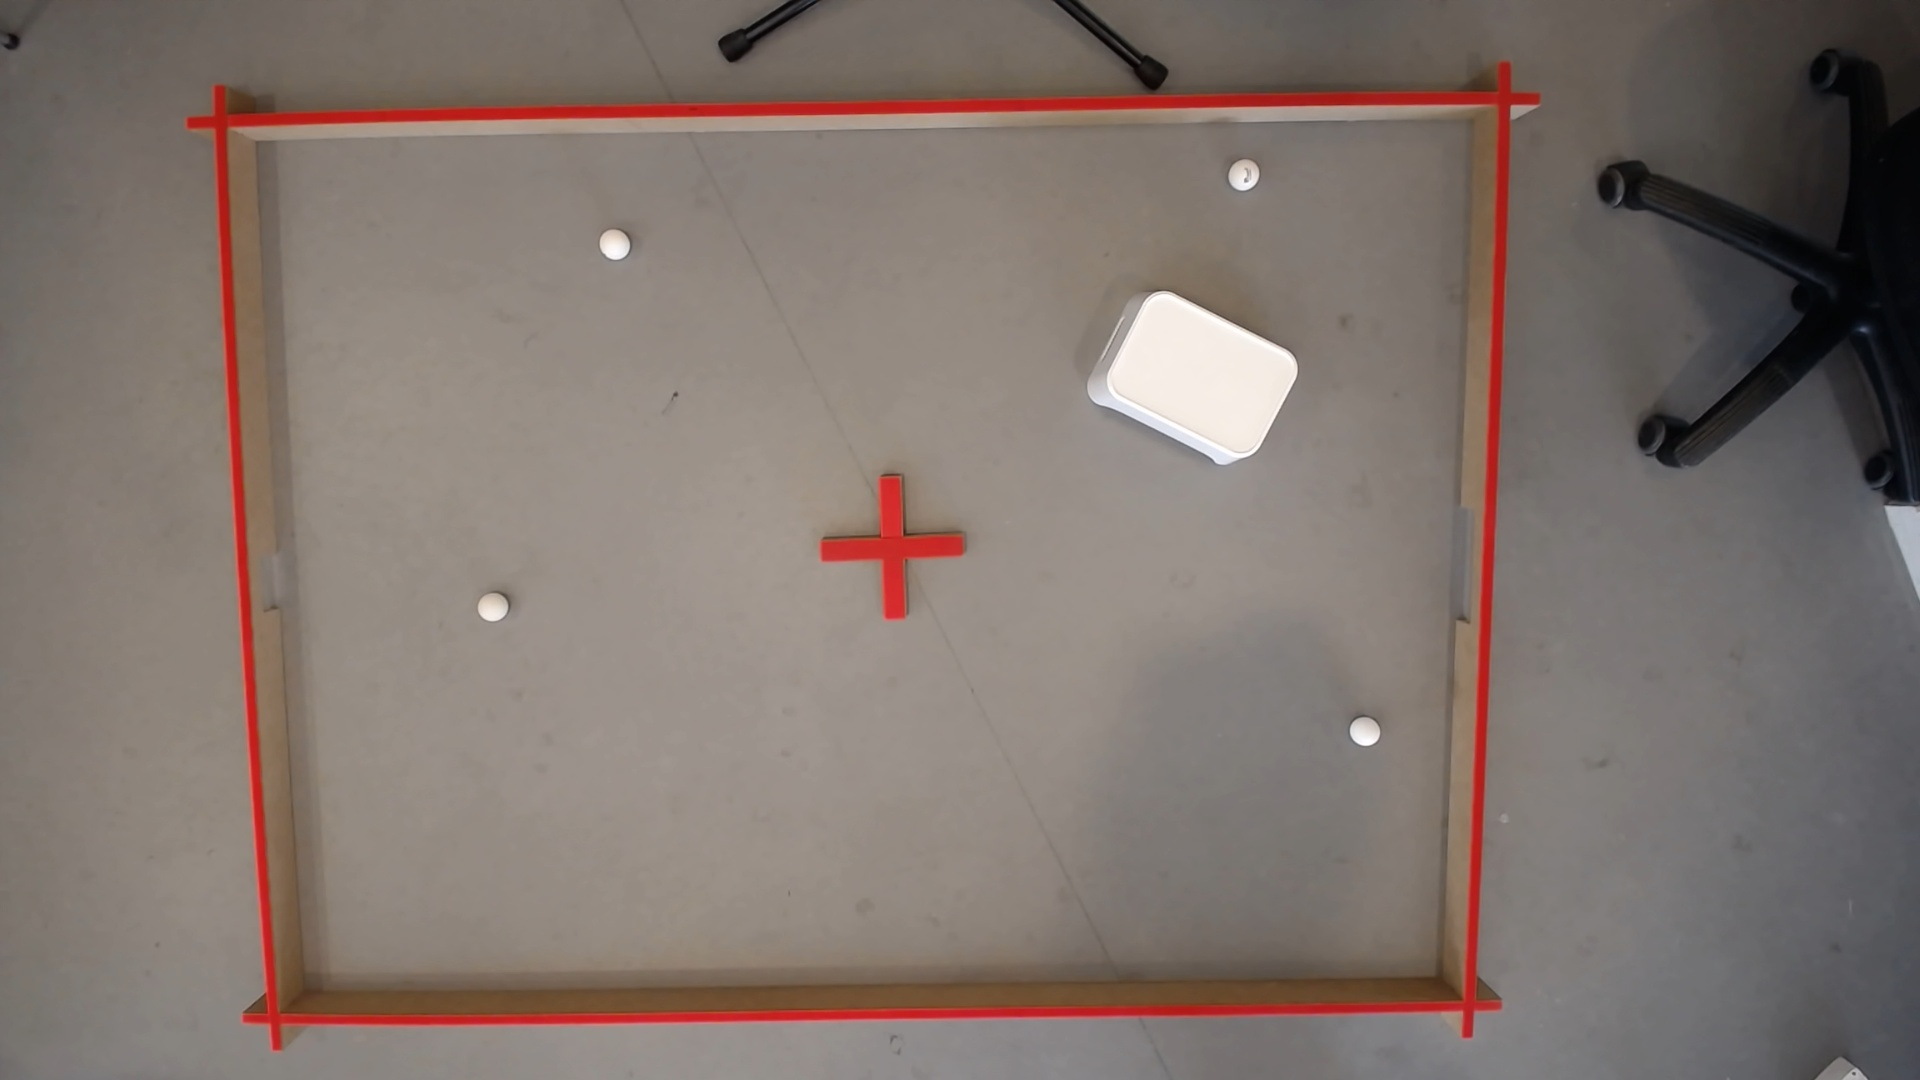balls: (1089, 281, 1304, 477), (1224, 156, 1263, 194), (593, 228, 633, 264), (1344, 715, 1382, 750)
car: (472, 592, 509, 626)
